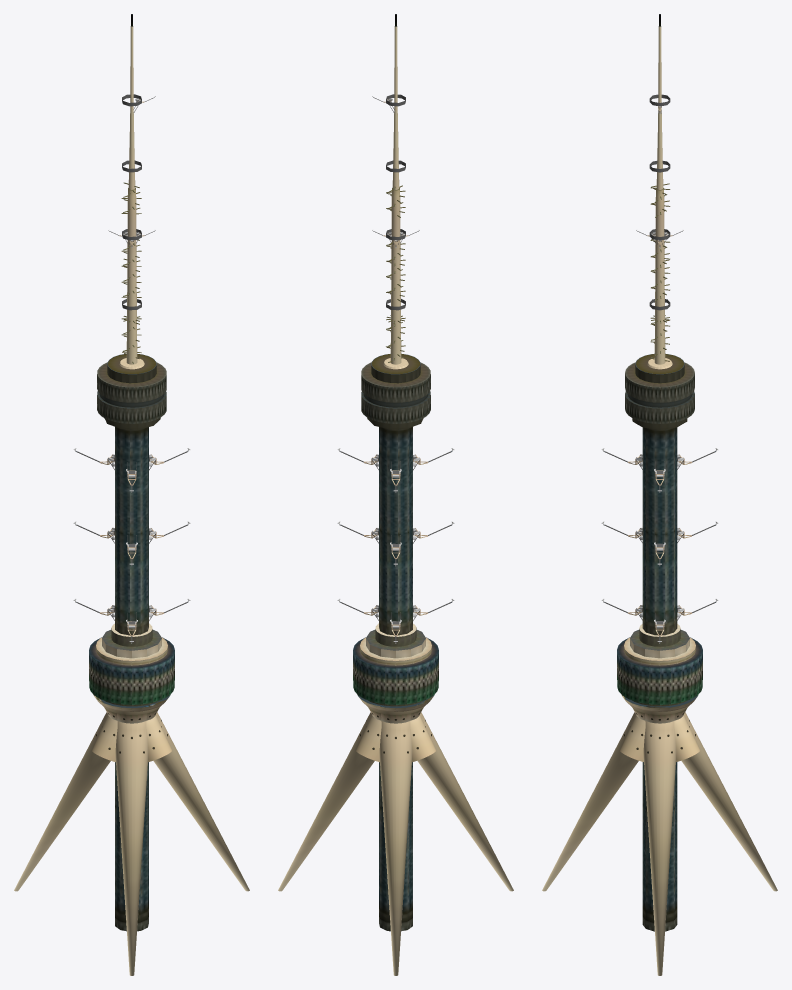
File: tv-tower.glb
3 renders of one model, left to right at view 1: azimuth 30°, elevation 25°; view 2: azimuth 150°, elevation 25°; view 3: azimuth 270°, elevation 25°, orthographic.
Parts seen in each view (by area): view 1: tvtower_material_0; view 2: tvtower_material_0; view 3: tvtower_material_0.
Part boxes in pixels (x1,y1,x2,y2): tvtower_material_0: [14, 14, 249, 975]; tvtower_material_0: [278, 14, 513, 975]; tvtower_material_0: [542, 14, 777, 975].
Size of the model in its own units: 221 by 1084 by 255.
1 material, 1 textured.
